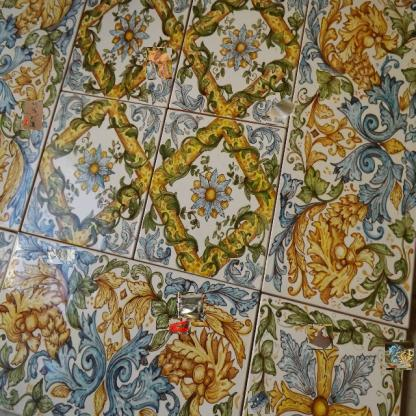dirty: (266, 96, 298, 126), (146, 47, 172, 79), (385, 341, 413, 369), (177, 294, 205, 321), (21, 100, 43, 130), (47, 246, 77, 264), (248, 392, 270, 416)
liquid: (308, 325, 332, 350), (169, 318, 191, 334)
